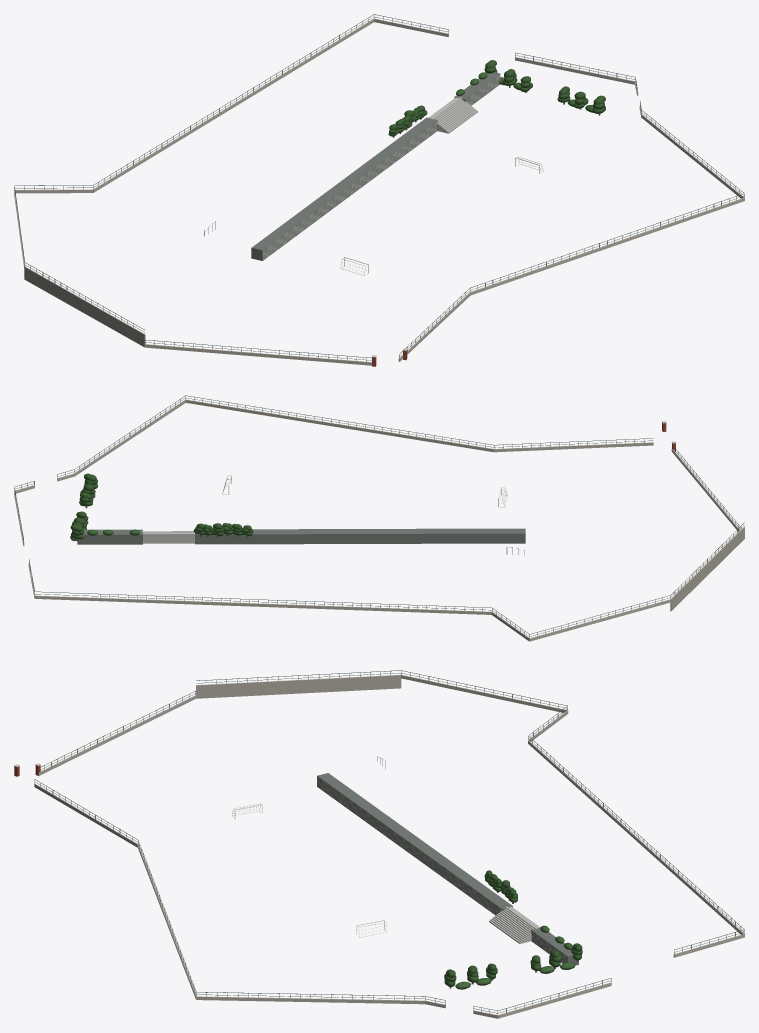
3 views of the same model, one above another, from view 1: azimuth 30°, elevation 25°; view 2: azimuth 150°, elevation 25°; view 3: azimuth 270°, elevation 25° (orthographic). The views are drawn at different scales.
Parts seen in each view (by area): view 1: site-wall-concrete, site-fence, site-granite-block, topiary-crown, site-wide-stair, site-rubble-4, site-rubble-0, site-rubble-1, site-rubble-2, site-rubble-3; view 2: site-wall-concrete, site-granite-block, site-fence, topiary-crown, site-wide-stair; view 3: site-wall-concrete, site-fence, site-granite-block, topiary-crown, site-wide-stair, site-rubble-4, site-rubble-0, site-rubble-3, site-rubble-1, site-rubble-2.
Boxes of the visible parts, x1,y1,x2,y2 form: site-wall-concrete: (14,18,744,365); site-fence: (14,14,744,361); site-granite-block: (251,72,500,260); topiary-crown: (388,60,605,136); site-wide-stair: (428,97,477,133); site-rubble-4: (263,75,498,256); site-rubble-0: (262,79,499,259); site-rubble-1: (262,77,499,257); site-rubble-2: (262,74,499,255); site-rubble-3: (264,78,498,258); site-wall-concrete: (14,399,744,641); site-granite-block: (77,528,525,544); site-fence: (14,395,744,638); topiary-crown: (70,473,253,539); site-wide-stair: (141,531,194,543); site-wall-concrete: (34,674,744,1018); site-fence: (34,670,744,1014); site-granite-block: (317,773,578,965); topiary-crown: (444,870,582,986); site-wide-stair: (489,906,540,943); site-rubble-4: (318,780,565,963); site-rubble-0: (317,777,564,961); site-rubble-3: (319,779,566,962); site-rubble-1: (317,779,566,962); site-rubble-2: (317,776,566,962).
Bounding box in the file's own units: 191 × 7.1 × 178.
